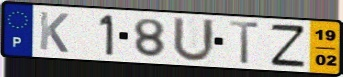1: (97, 13, 116, 57)
8: (131, 17, 169, 59)
K: (37, 10, 71, 55)
T: (227, 19, 262, 66)
U: (171, 15, 218, 64)
Z: (268, 23, 307, 68)
